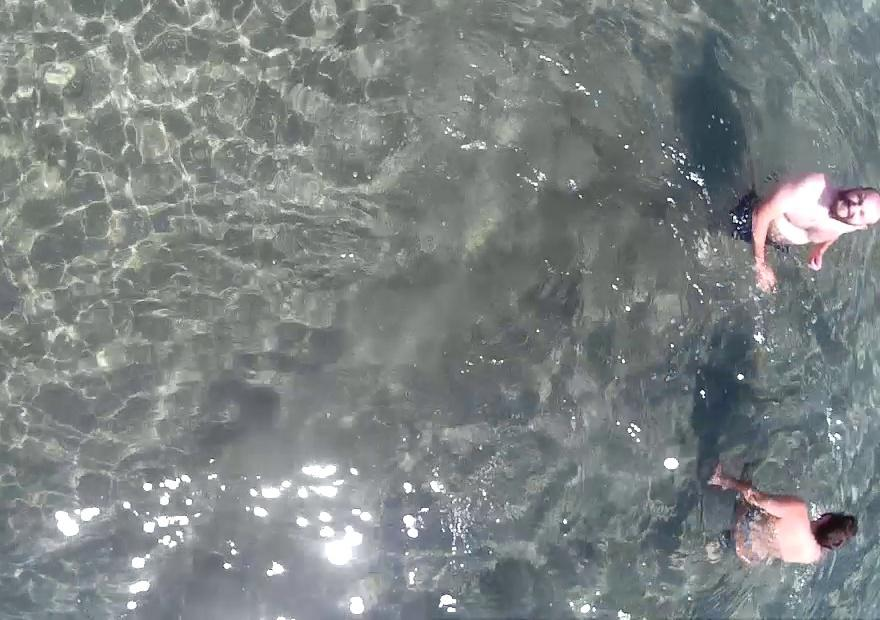swimmer: (704, 434, 868, 603), (723, 127, 874, 300)
